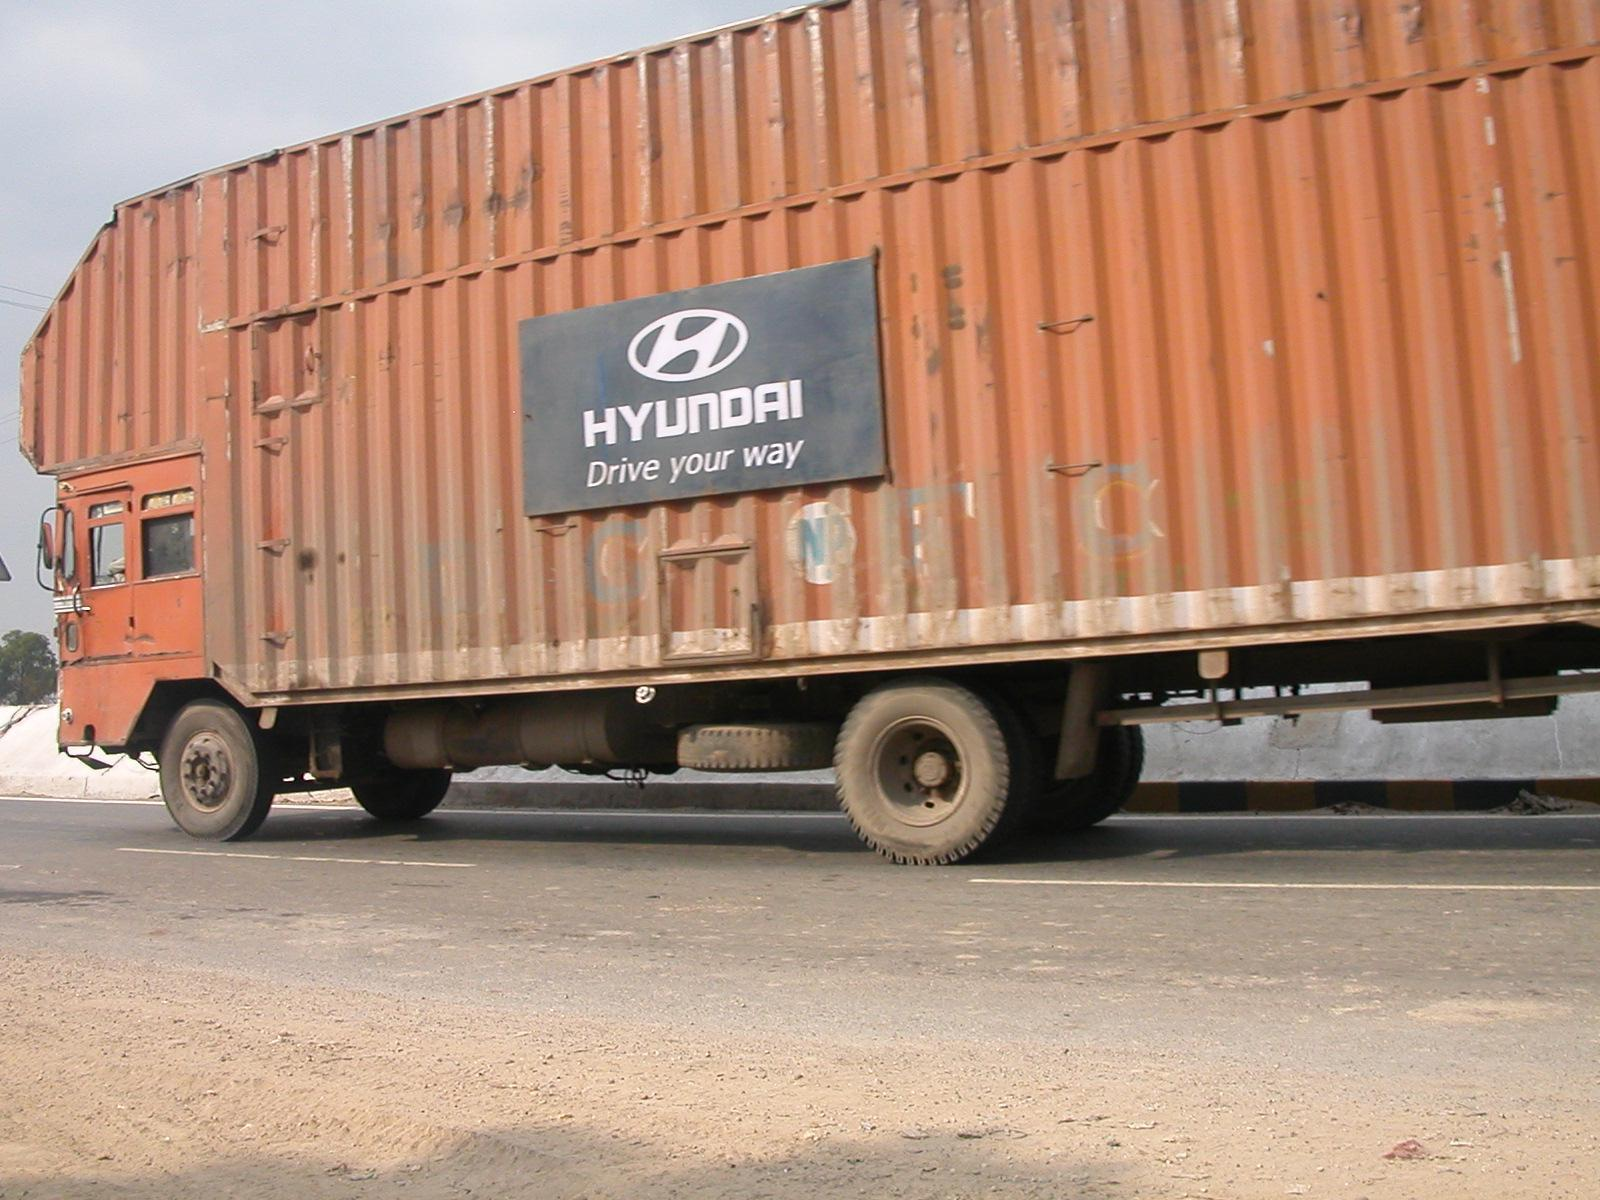truck: (19, 0, 1600, 875)
